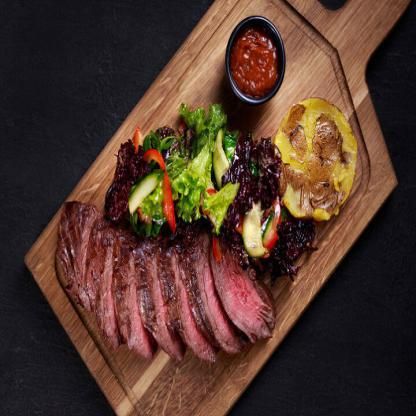beef: (55, 187, 266, 362)
